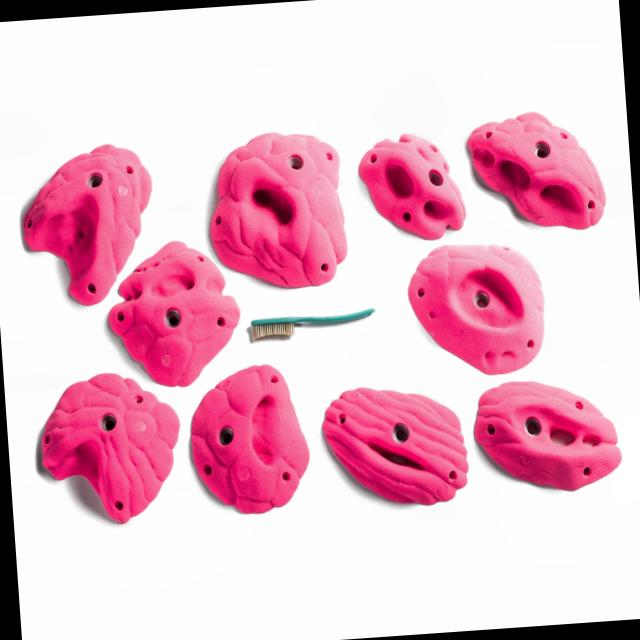Hold: (200, 123, 354, 301), (30, 371, 180, 530), (19, 141, 154, 306), (402, 235, 550, 382), (317, 374, 470, 512), (469, 376, 624, 502), (104, 239, 246, 374), (464, 102, 604, 236), (185, 368, 309, 516), (355, 126, 474, 247)
